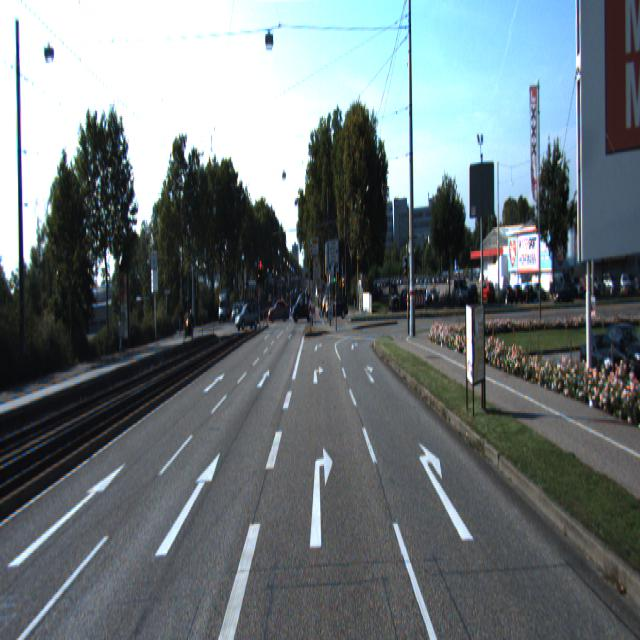Car: (234, 300, 261, 331), (185, 309, 195, 341)
